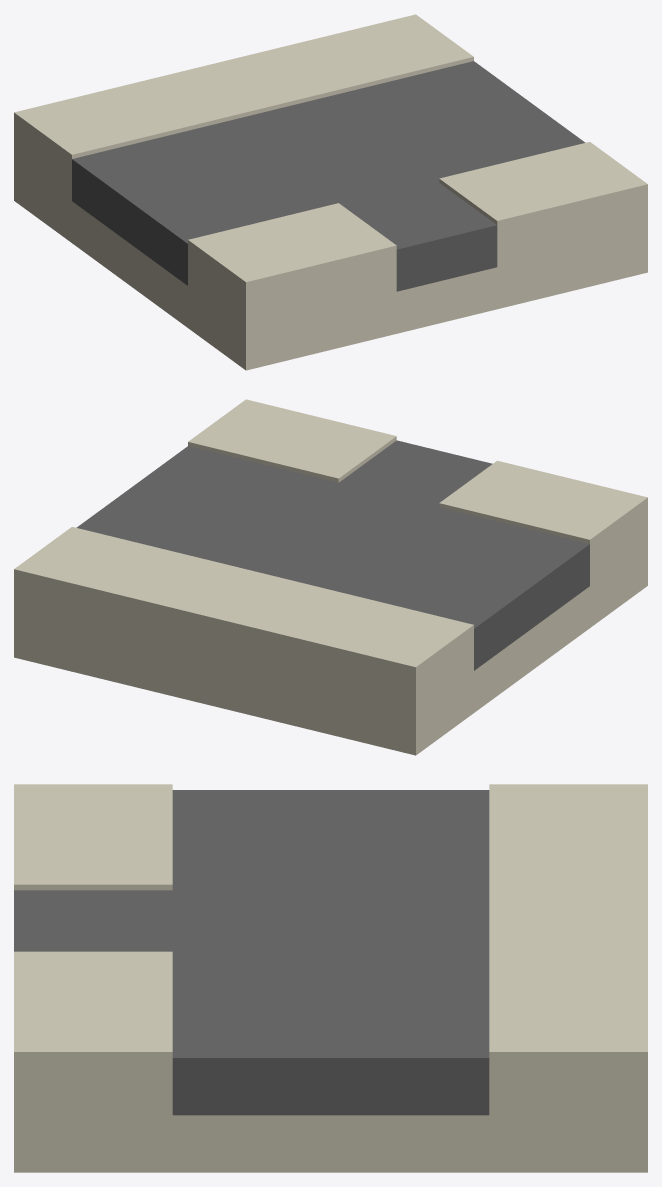
Rendered from roadTile_078.obj.
3 views of the same model, one above another, from view 1: azimuth 30°, elevation 25°; view 2: azimuth 150°, elevation 25°; view 3: azimuth 270°, elevation 25° (orthographic). The views are drawn at different scales.
Visible parts, largest first — view 1: Mesh1_Group1_Model.077; view 2: Mesh1_Group1_Model.077; view 3: Mesh1_Group1_Model.077.
Part boxes in pixels (<box>): Mesh1_Group1_Model.077: <box>14,14,647,370</box>; Mesh1_Group1_Model.077: <box>14,399,647,755</box>; Mesh1_Group1_Model.077: <box>14,784,647,1172</box>.
Size of the model in its own units: 3 by 0.63 by 3.
